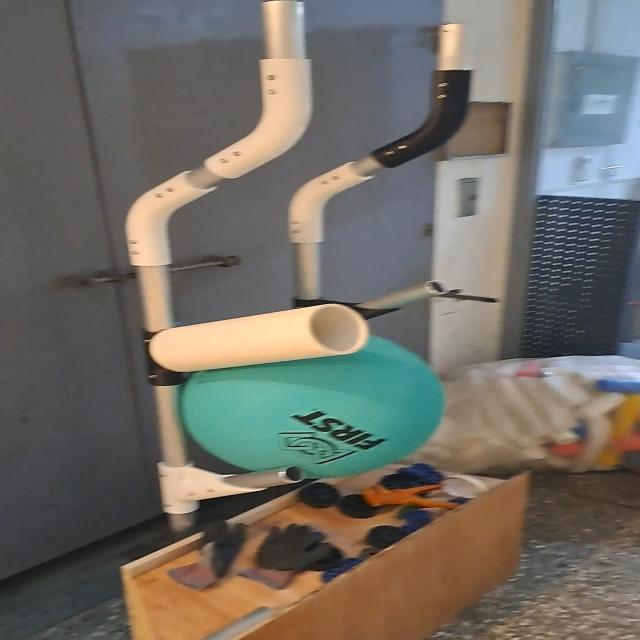ALGAE: (182, 337, 451, 490)
CORAL: (143, 305, 385, 377)
